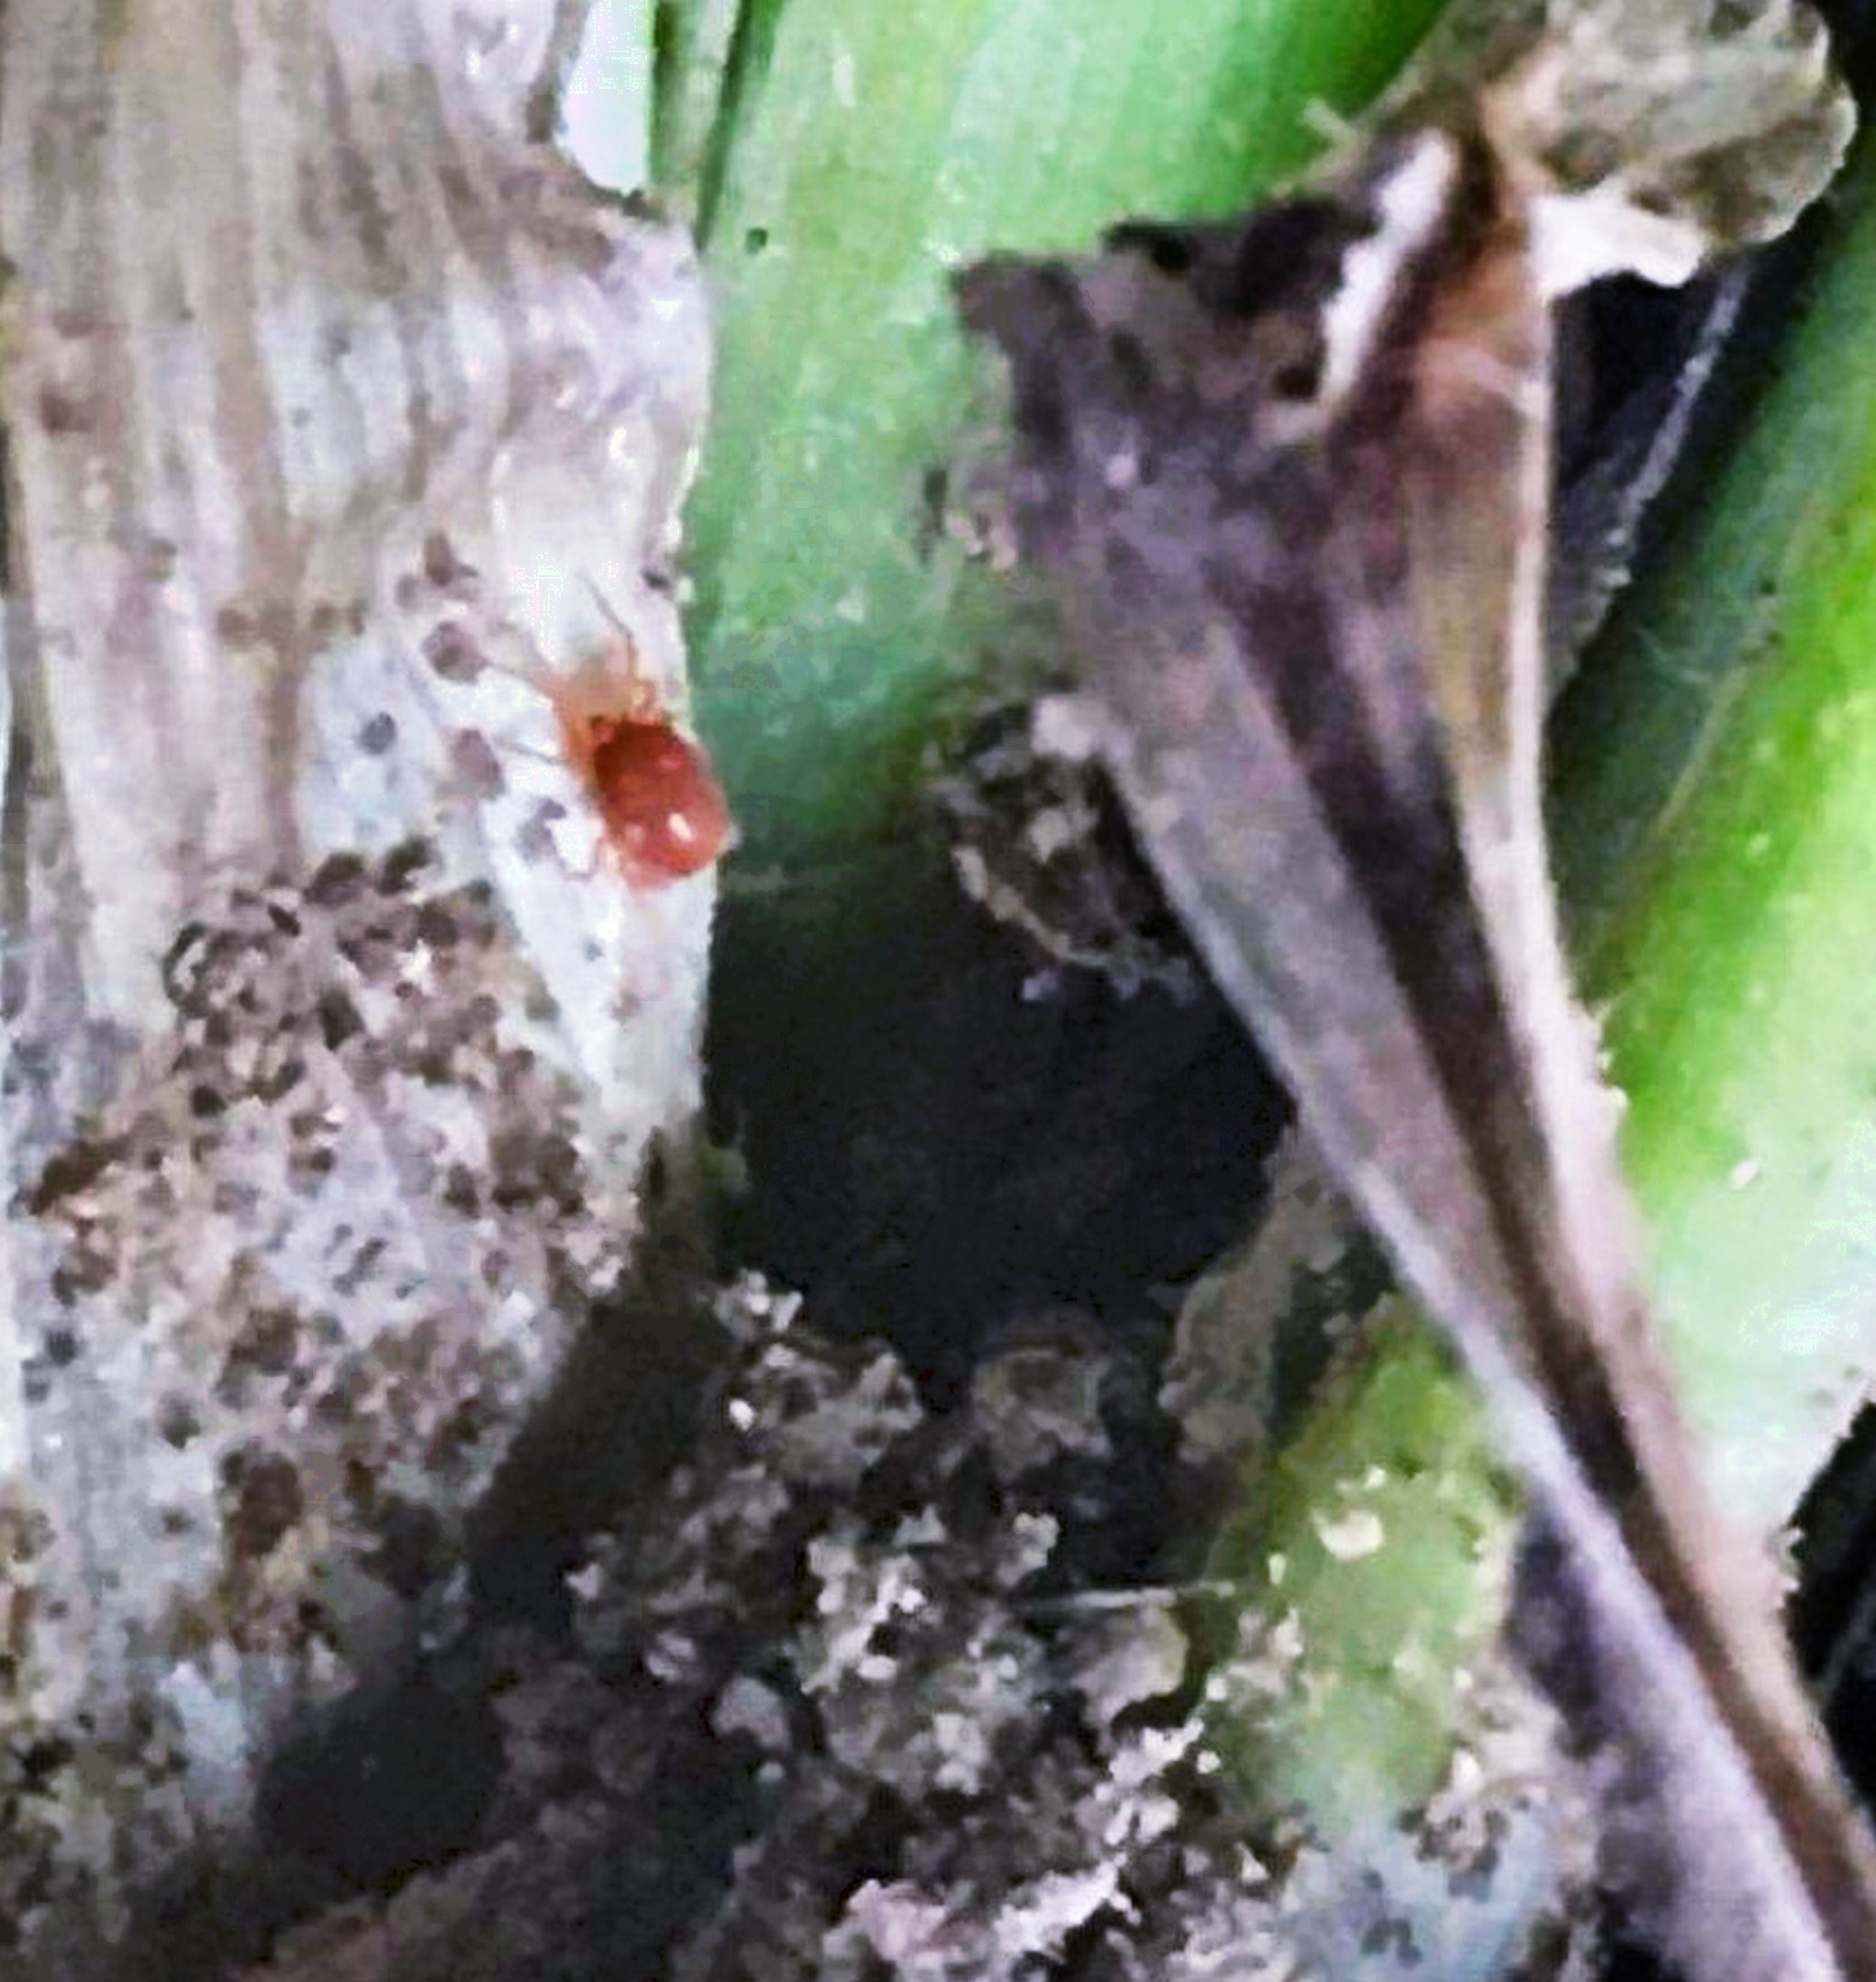Wheat Red Spider: (437, 557, 774, 943)
